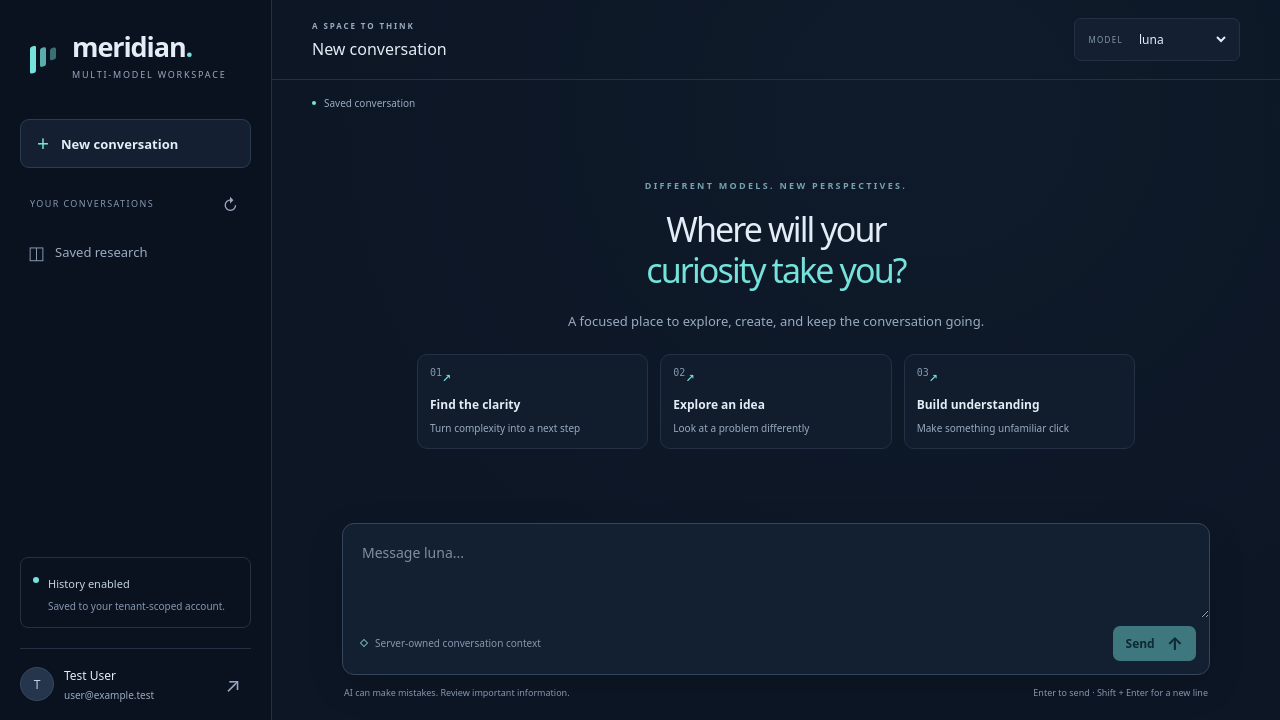
it: workspace user states › blocks sending after a failed history read until an explicit refresh succeeds
Click the button "◫ Saved research" at [136, 252], box [16,228,255,276]
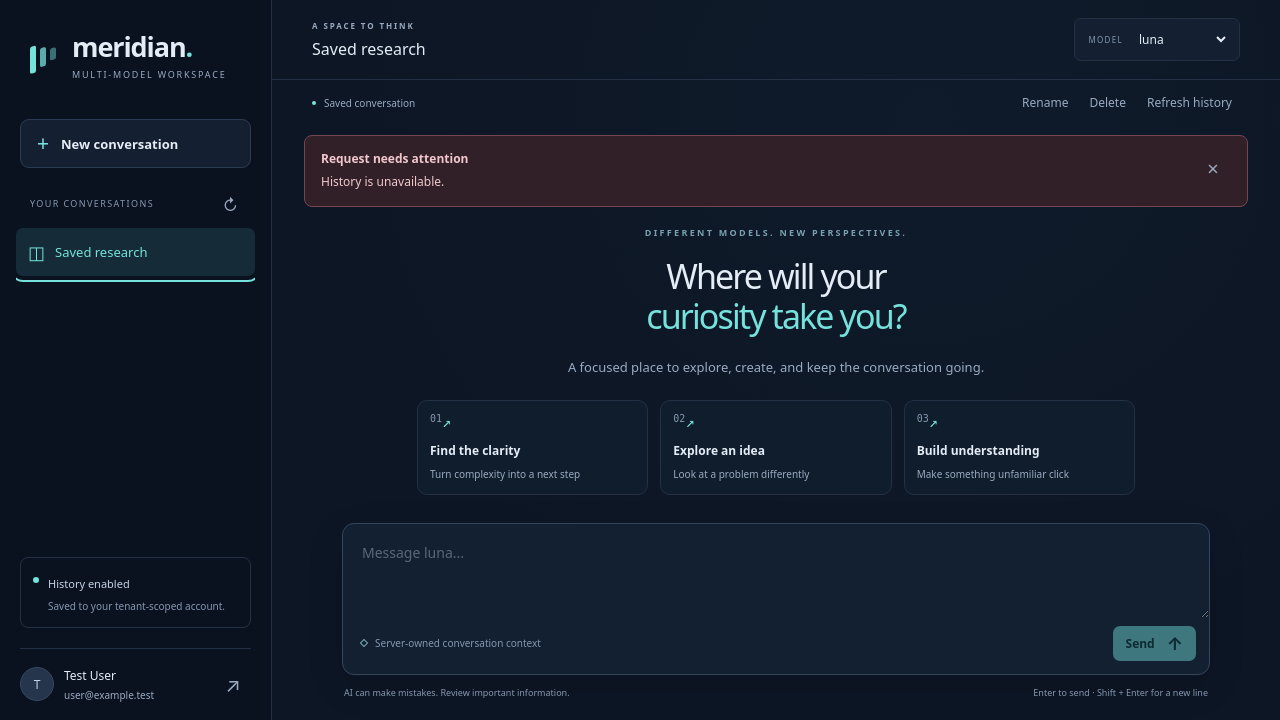
Now the message shows "History is unavailable.", box [321,173,444,190]
Now the text box labelled "Message" is disabled, box [343,524,1209,618]
Click the button "Refresh history" at [1189, 102], box [1139,86,1240,119]
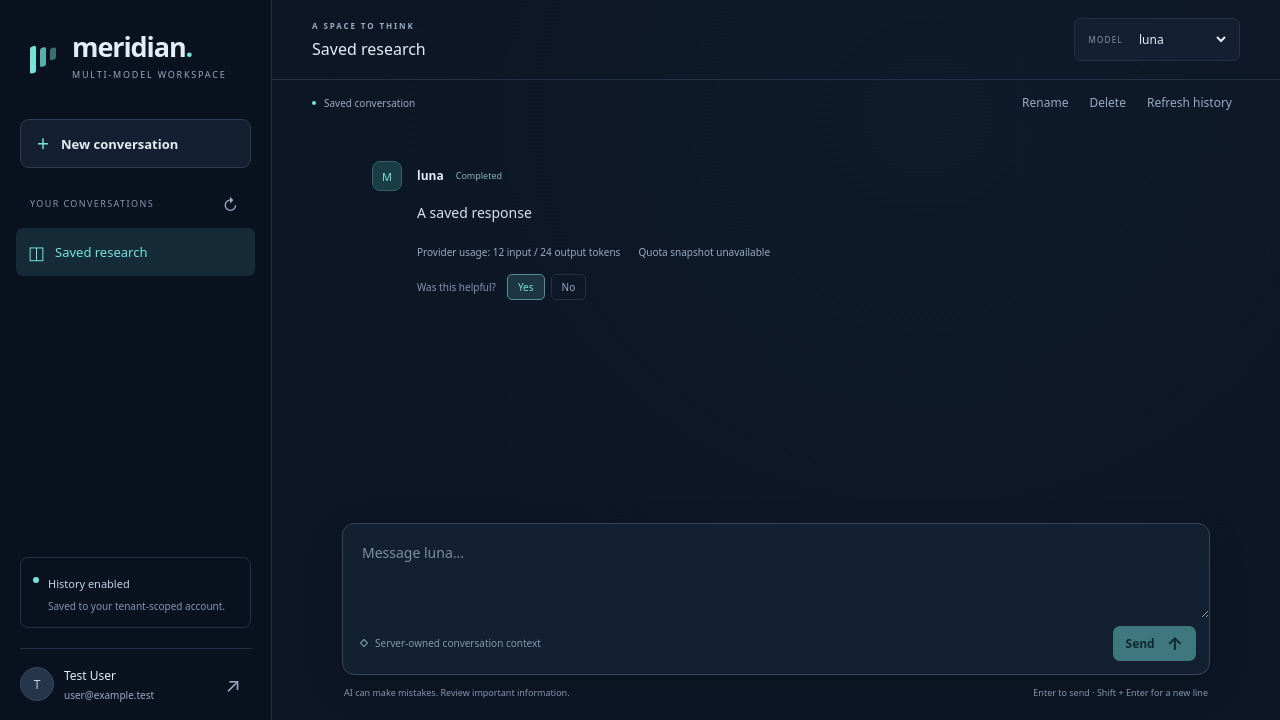
Now the text "A saved response" is shown, box [417,203,532,222]
Now the text box labelled "Message" is enabled, box [343,524,1209,618]
